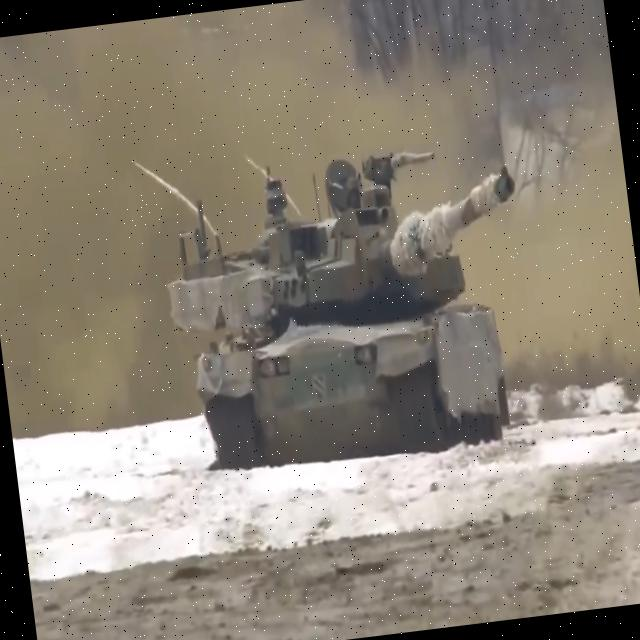korea tank: (148, 131, 548, 484)
